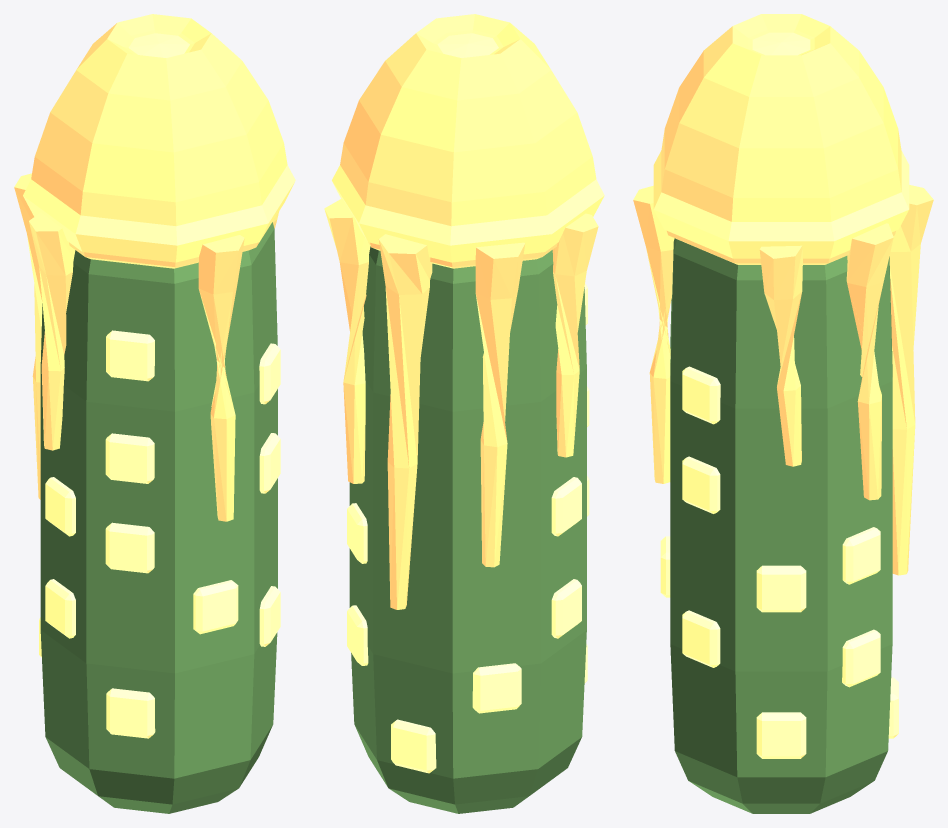
Rendered from VolcanoMoltenCucumber.fbx.
3 views of the same model, side by side, from view 1: azimuth 30°, elevation 25°; view 2: azimuth 150°, elevation 25°; view 3: azimuth 270°, elevation 25° (orthographic).
Parts seen in each view (by area): view 1: VolcanoMoltenCucumber.Body, VolcanoMoltenCucumber.LavaFlow, VolcanoMoltenCucumber.Studs, VolcanoMoltenCucumber.LavaLip; view 2: VolcanoMoltenCucumber.Body, VolcanoMoltenCucumber.LavaFlow, VolcanoMoltenCucumber.Studs, VolcanoMoltenCucumber.LavaLip; view 3: VolcanoMoltenCucumber.Body, VolcanoMoltenCucumber.LavaFlow, VolcanoMoltenCucumber.Studs, VolcanoMoltenCucumber.LavaLip.
Part boxes in pixels (left/top/right/bottom): VolcanoMoltenCucumber.Body: left=40, top=222, right=277, bottom=813; VolcanoMoltenCucumber.LavaFlow: left=14, top=14, right=287, bottom=521; VolcanoMoltenCucumber.Studs: left=39, top=330, right=280, bottom=738; VolcanoMoltenCucumber.LavaLip: left=23, top=33, right=295, bottom=262; VolcanoMoltenCucumber.Body: left=349, top=246, right=586, bottom=813; VolcanoMoltenCucumber.LavaFlow: left=324, top=14, right=598, bottom=609; VolcanoMoltenCucumber.Studs: left=347, top=283, right=589, bottom=773; VolcanoMoltenCucumber.LavaLip: left=332, top=33, right=604, bottom=262; VolcanoMoltenCucumber.Body: left=670, top=238, right=892, bottom=813; VolcanoMoltenCucumber.LavaFlow: left=633, top=14, right=933, bottom=575; VolcanoMoltenCucumber.Studs: left=660, top=366, right=898, bottom=758; VolcanoMoltenCucumber.LavaLip: left=653, top=32, right=909, bottom=258.
Bounding box in the file's own units: 1.66 × 4.68 × 1.7.
